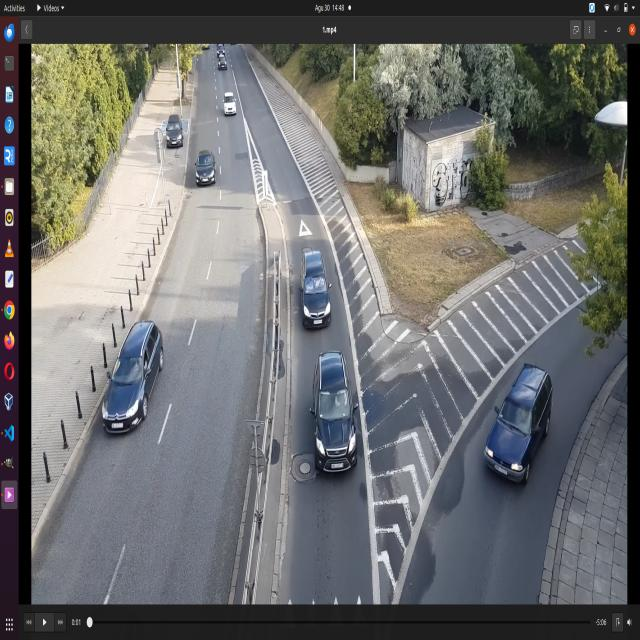person_with_seatbelt: (304, 277, 314, 293), (314, 276, 325, 290)
person_without_seatbelt: (332, 390, 350, 410)
